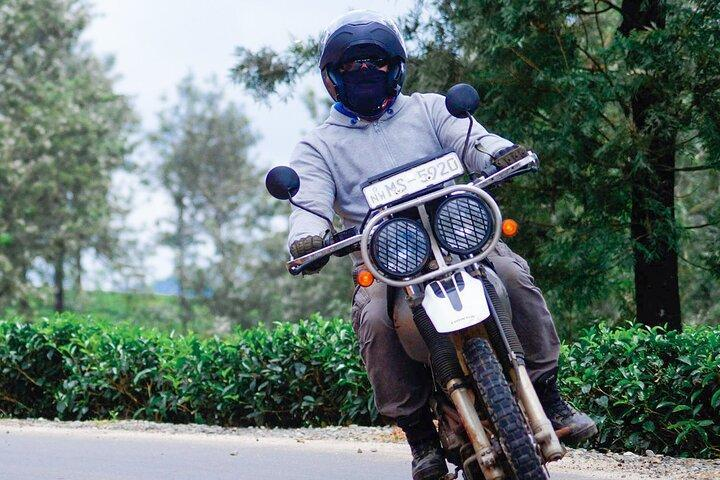motorbike: (266, 83, 572, 479)
